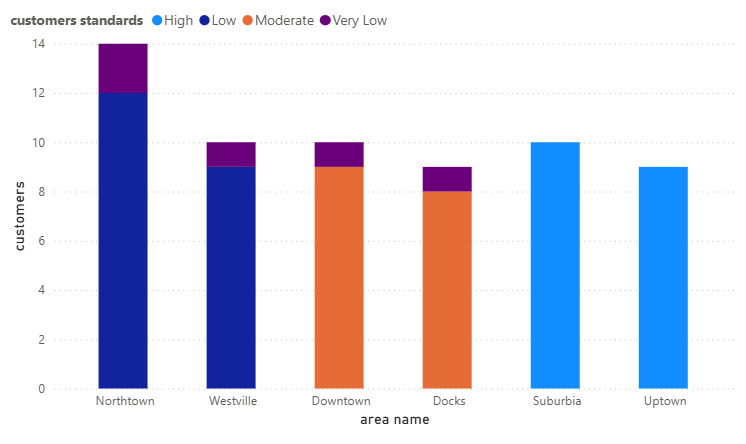

What the dashboard file says about the page in this screenshot:
{"tool":"powerbi","page":{"name":"Strona 1","canvas":[1280,720],"ordinal":0},"visuals":[{"type":"columnChart","fields":{"Category":["area_standards.name"],"Series":["area_standards.standards"],"Y":["Sum(area_standards.count)"]},"box":[390.9,103.6,715.5,440.9],"z":0}]}

Visuals, with their boxes on the page's 1280x720 design canvas (x1, y1, x2, y2). These are canvas units, not pixel positions in the 746x444 screenshot, which may show the page scaled, cropped or inside an application window:
columnChart - area_standards.name x area_standards.standards: [x1=391, y1=104, x2=1106, y2=544]
